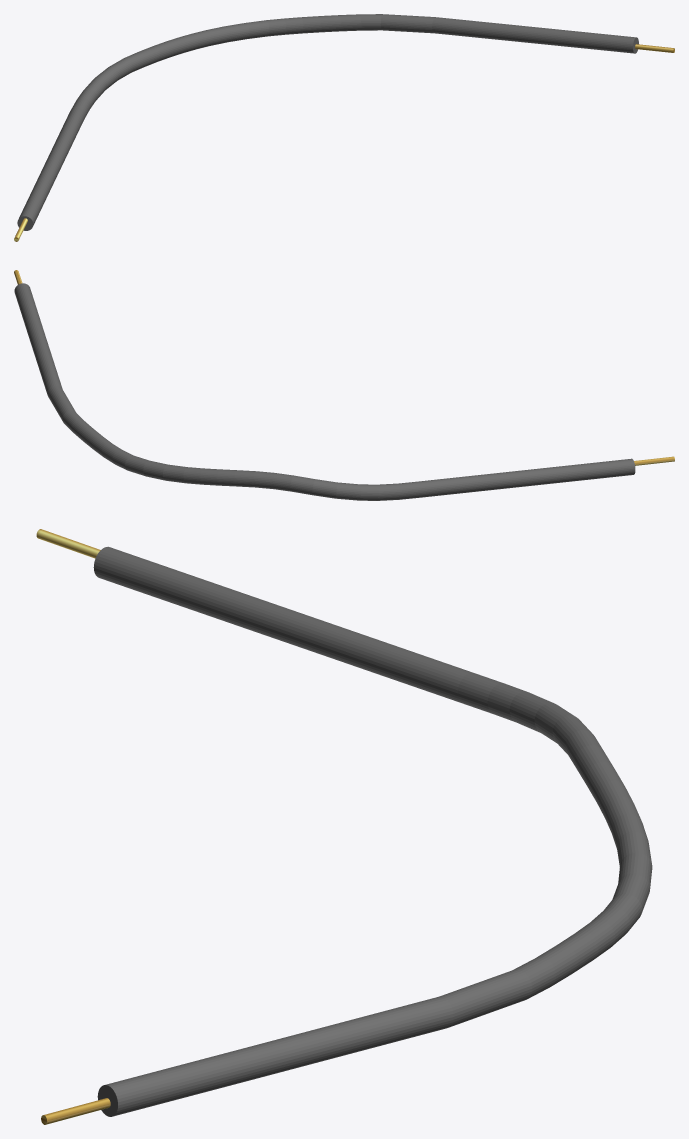
Rendered from Cable_extra.fbx.
3 renders of one model, top to bottom at view 1: azimuth 30°, elevation 25°; view 2: azimuth 150°, elevation 25°; view 3: azimuth 270°, elevation 25°, orthographic. The views are drawn at different scales.
Visible parts, largest first — view 1: Cylinder, Cylinder.001; view 2: Cylinder; view 3: Cylinder, Cylinder.001.
Boxes of the visible parts, bbox=[...] form: Cylinder: bbox=[17, 14, 638, 230]; Cylinder.001: bbox=[14, 44, 674, 241]; Cylinder: bbox=[14, 283, 635, 500]; Cylinder: bbox=[93, 546, 652, 1116]; Cylinder.001: bbox=[36, 529, 110, 1124].
Bounding box in the file's own units: 843 × 52.51 × 341.
